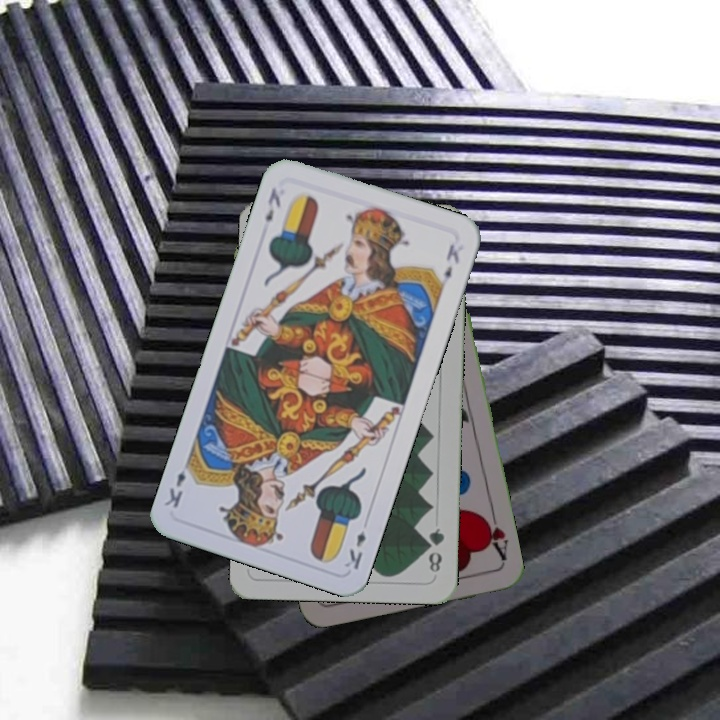EK: (340, 527, 369, 573), (261, 183, 284, 225)
G8: (423, 524, 447, 575)
HA: (478, 506, 511, 564)
